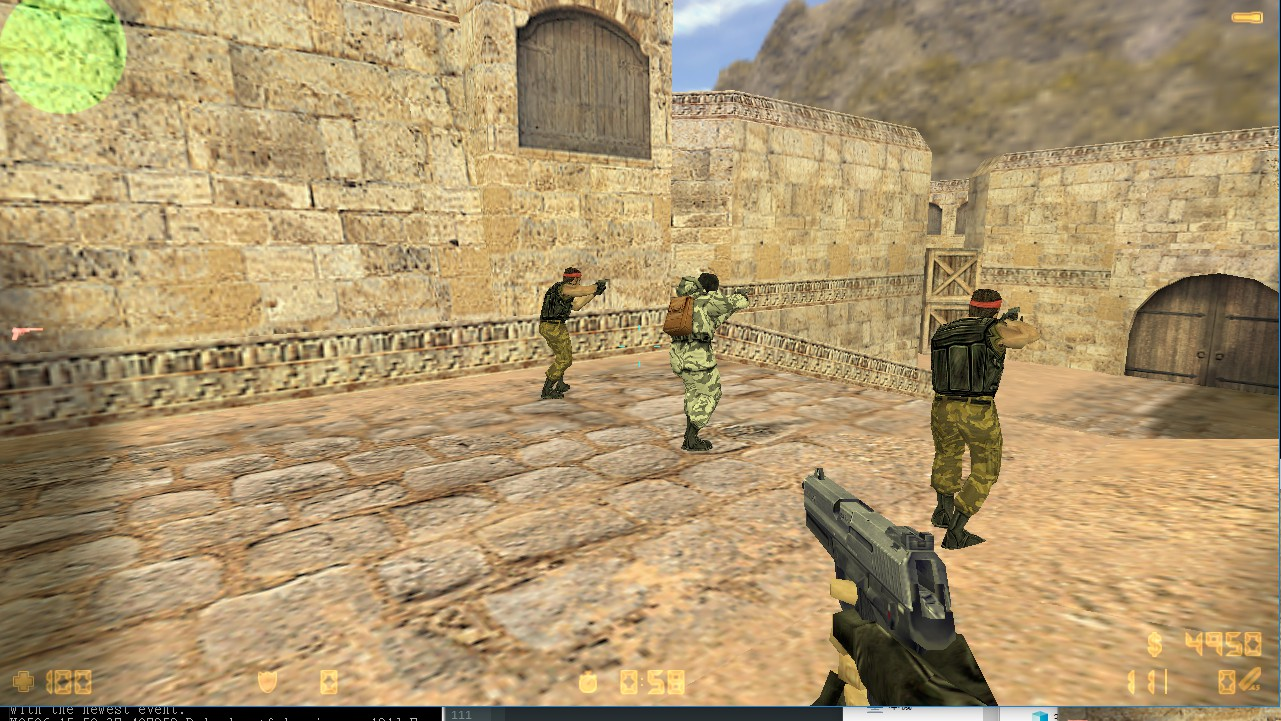person: (923, 287, 1013, 553), (662, 267, 737, 463), (535, 254, 583, 403)
